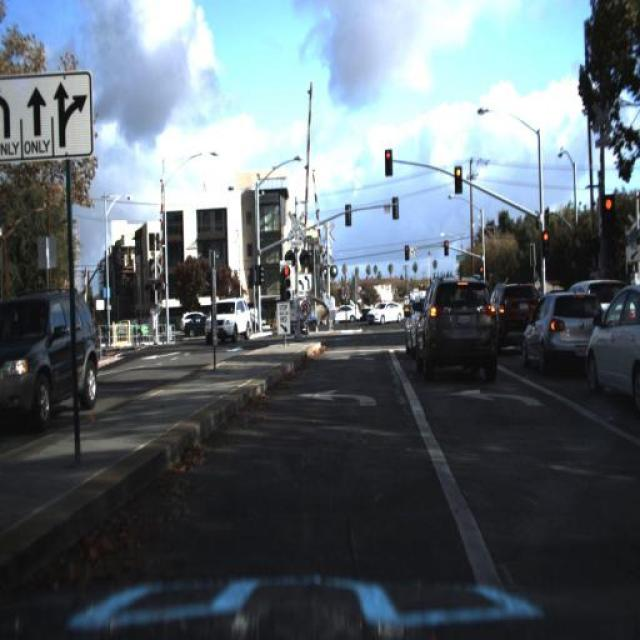car: (0, 292, 100, 431), (416, 276, 500, 385), (515, 292, 603, 377), (584, 279, 640, 405), (523, 281, 585, 378), (483, 284, 538, 352), (202, 290, 250, 354), (203, 293, 252, 342), (495, 278, 525, 349), (287, 303, 322, 338), (324, 299, 362, 329), (366, 298, 406, 326), (329, 296, 363, 326), (402, 293, 417, 357), (290, 312, 320, 342)
trafficLight: (630, 302, 640, 352)
trafficLight-RedLeft: (278, 260, 293, 305), (454, 164, 467, 196), (540, 228, 552, 262), (401, 236, 413, 269), (282, 256, 292, 290), (454, 162, 466, 190), (384, 146, 394, 173), (540, 227, 550, 254), (402, 238, 412, 264), (440, 229, 450, 255), (441, 233, 451, 259), (477, 261, 484, 280)
trafficLight-Yellow: (385, 146, 394, 174)
